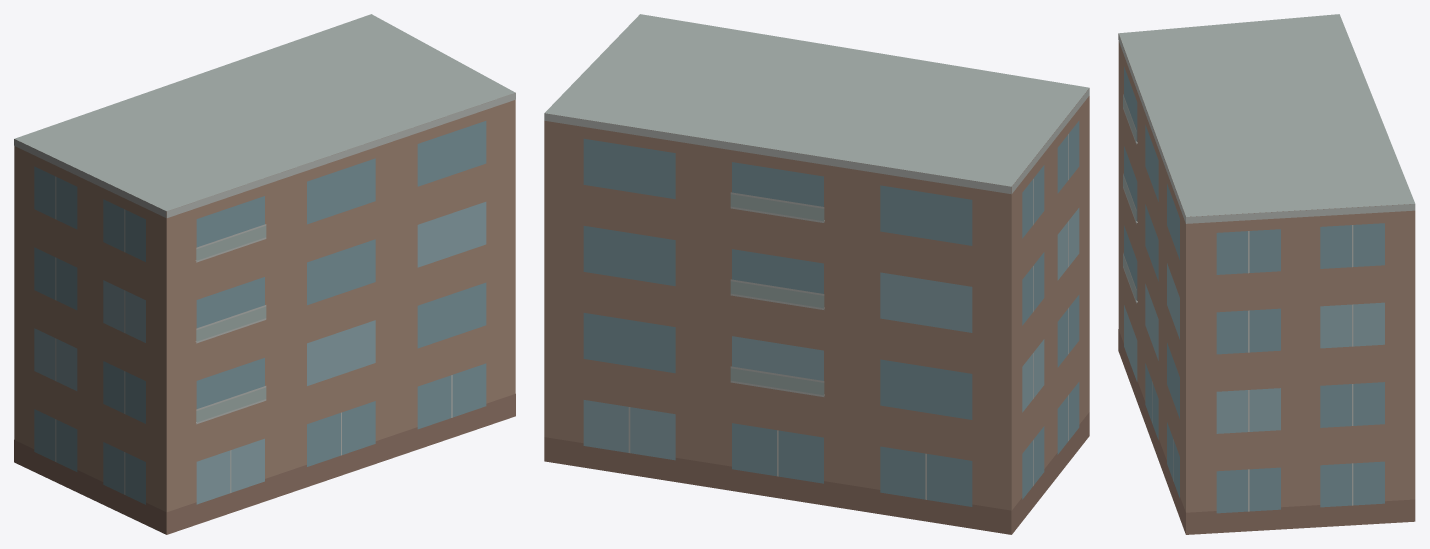
Rendered from survey-upis-32629561.glb.
3 renders of one model, left to right at view 1: azimuth 30°, elevation 25°; view 2: azimuth 150°, elevation 25°; view 3: azimuth 270°, elevation 25°, orthographic. The views are drawn at different scales.
Parts seen in each view (by area): view 1: survey-upis-32629561.tmp; view 2: survey-upis-32629561.tmp; view 3: survey-upis-32629561.tmp.
Boxes of the visible parts, bbox=[...] form: survey-upis-32629561.tmp: bbox=[14, 14, 515, 534]; survey-upis-32629561.tmp: bbox=[544, 14, 1089, 534]; survey-upis-32629561.tmp: bbox=[1118, 14, 1415, 534].
Size of the model in its own units: 15.49 by 11.3 by 9.57.
